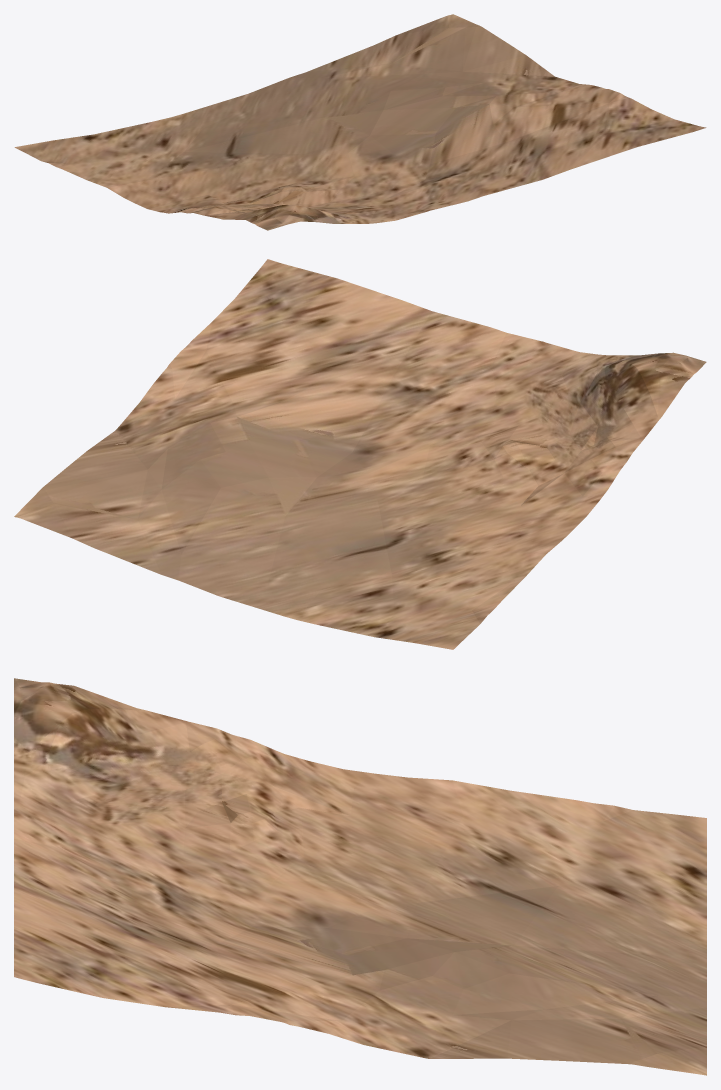
3 renders of one model, top to bottom at view 1: azimuth 30°, elevation 25°; view 2: azimuth 150°, elevation 25°; view 3: azimuth 270°, elevation 25°, orthographic. The views are drawn at different scales.
Size of the model in its own units: 1.04 by 0.258 by 1.04.
Materials: 2 (2 with a texture image).
